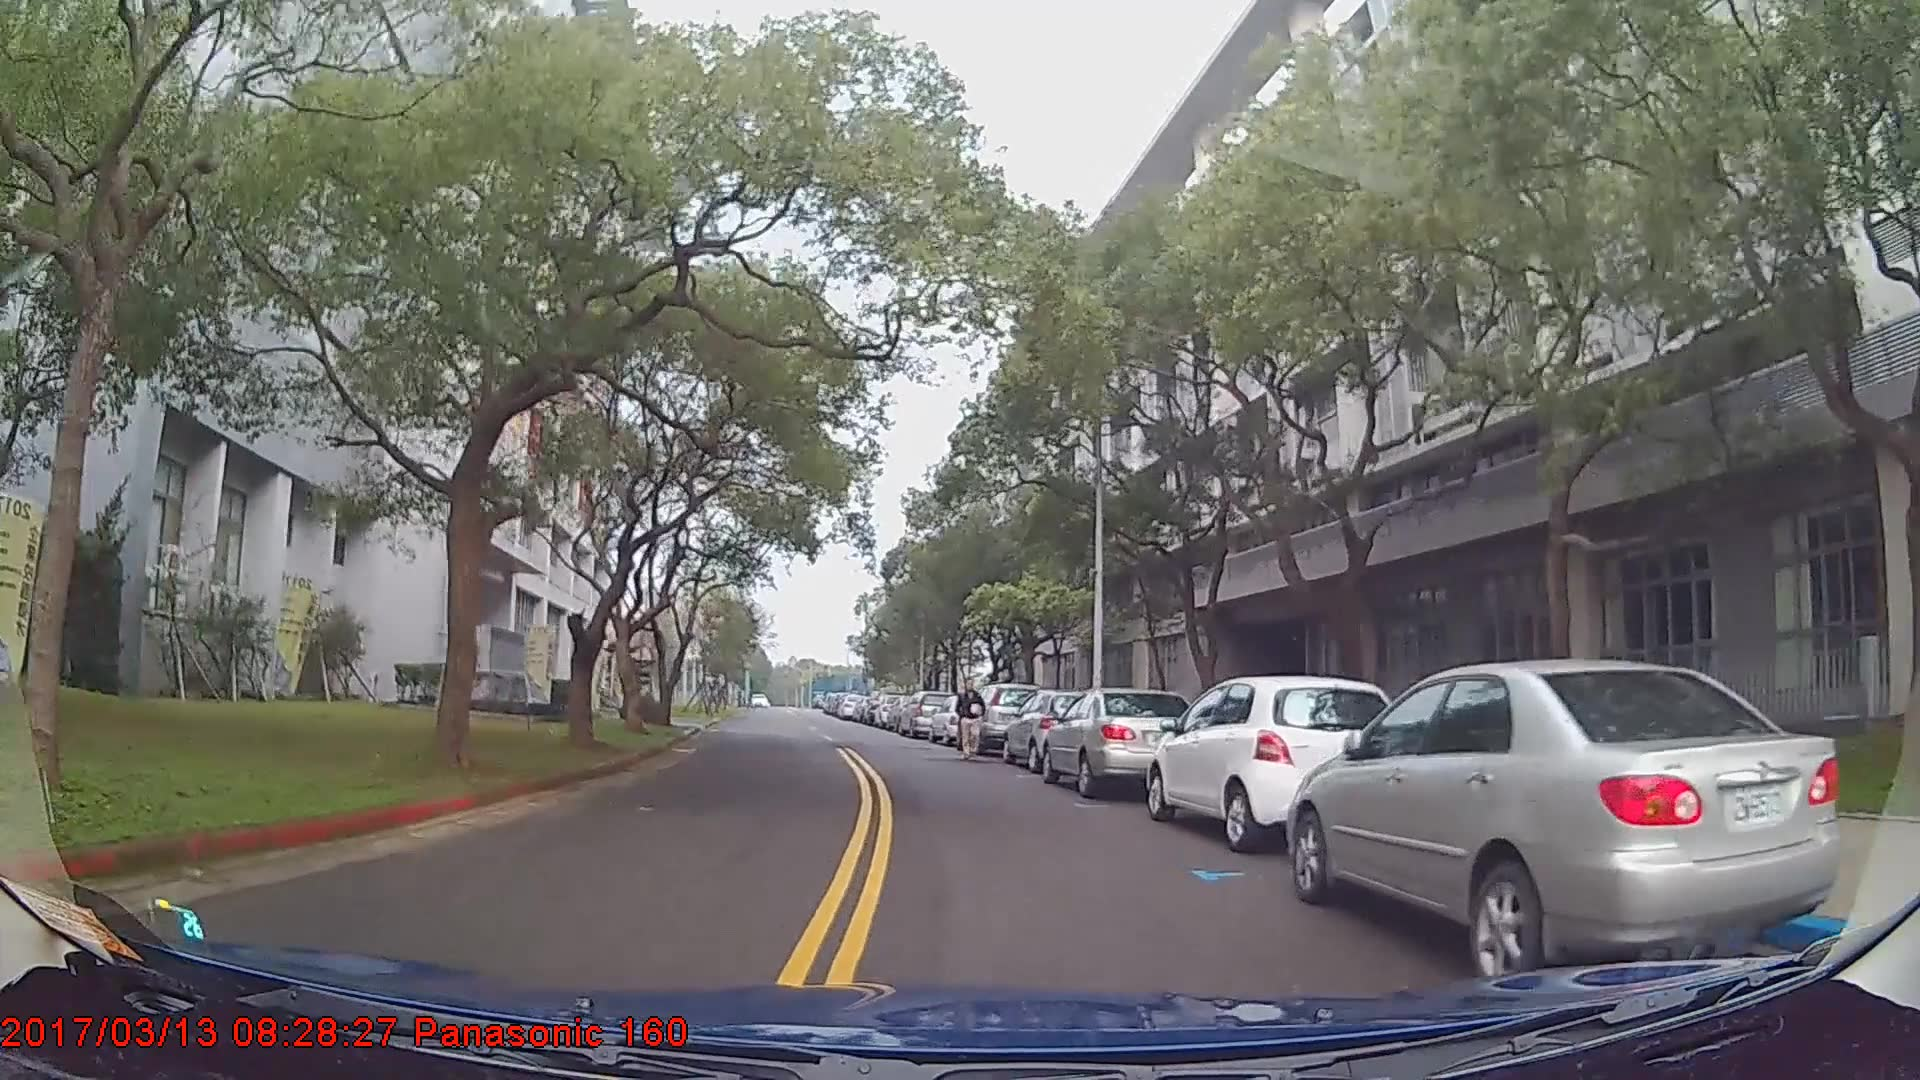pedestrian: (956, 676, 988, 759)
vehicle: (1283, 657, 1843, 991), (1145, 672, 1399, 853), (1041, 688, 1202, 796), (1002, 686, 1114, 772), (967, 683, 1039, 754), (898, 691, 953, 737)
